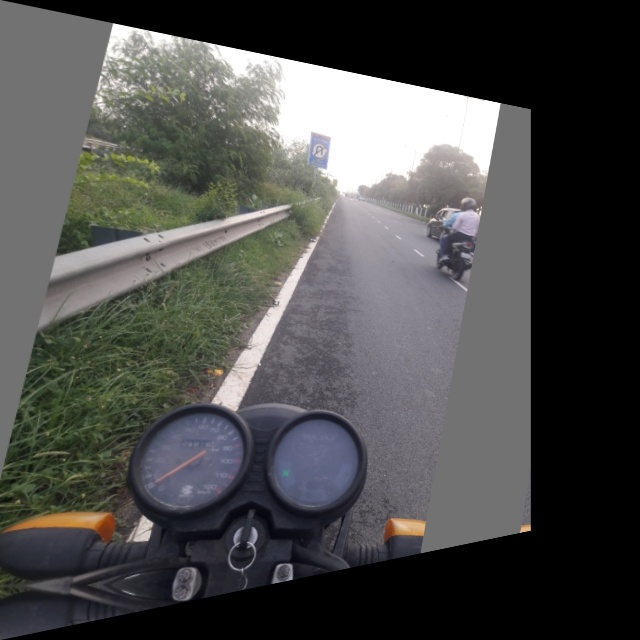U_Turn_Prohibited: (306, 132, 333, 169)
